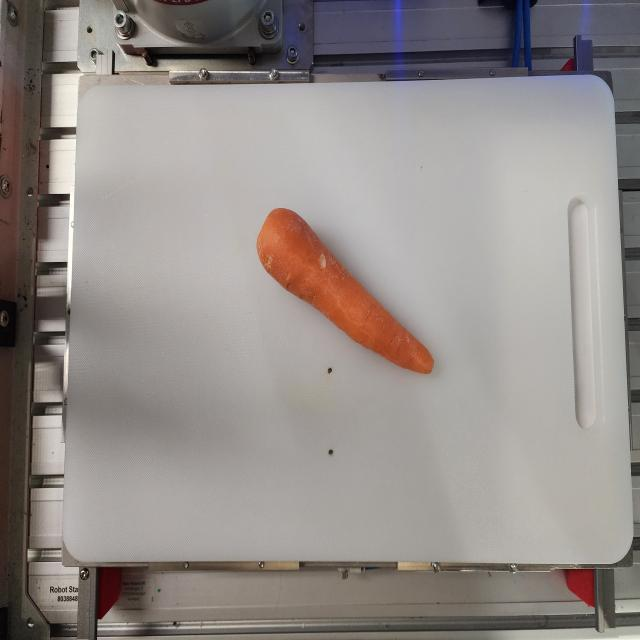carrot: (256, 206, 434, 375)
